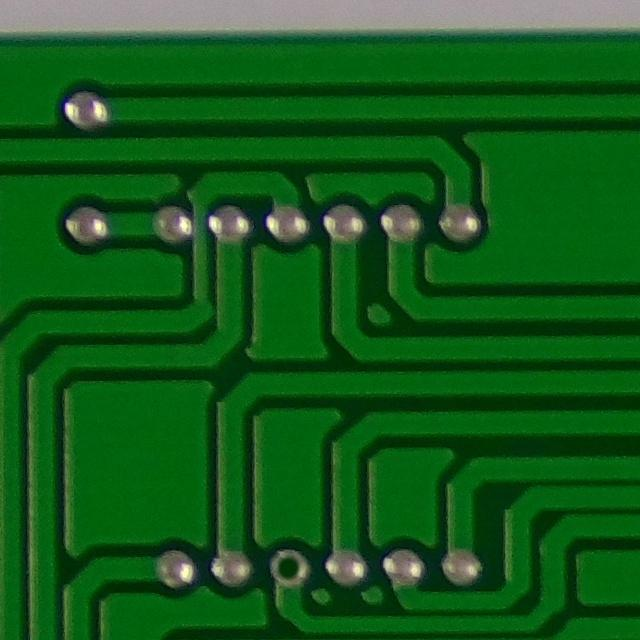missing_hole: (266, 541, 320, 590)
